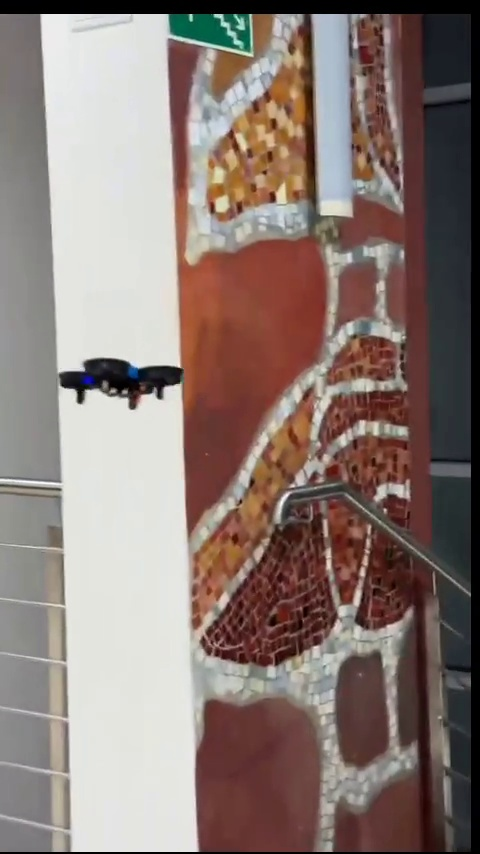drone: (57, 358, 185, 405)
